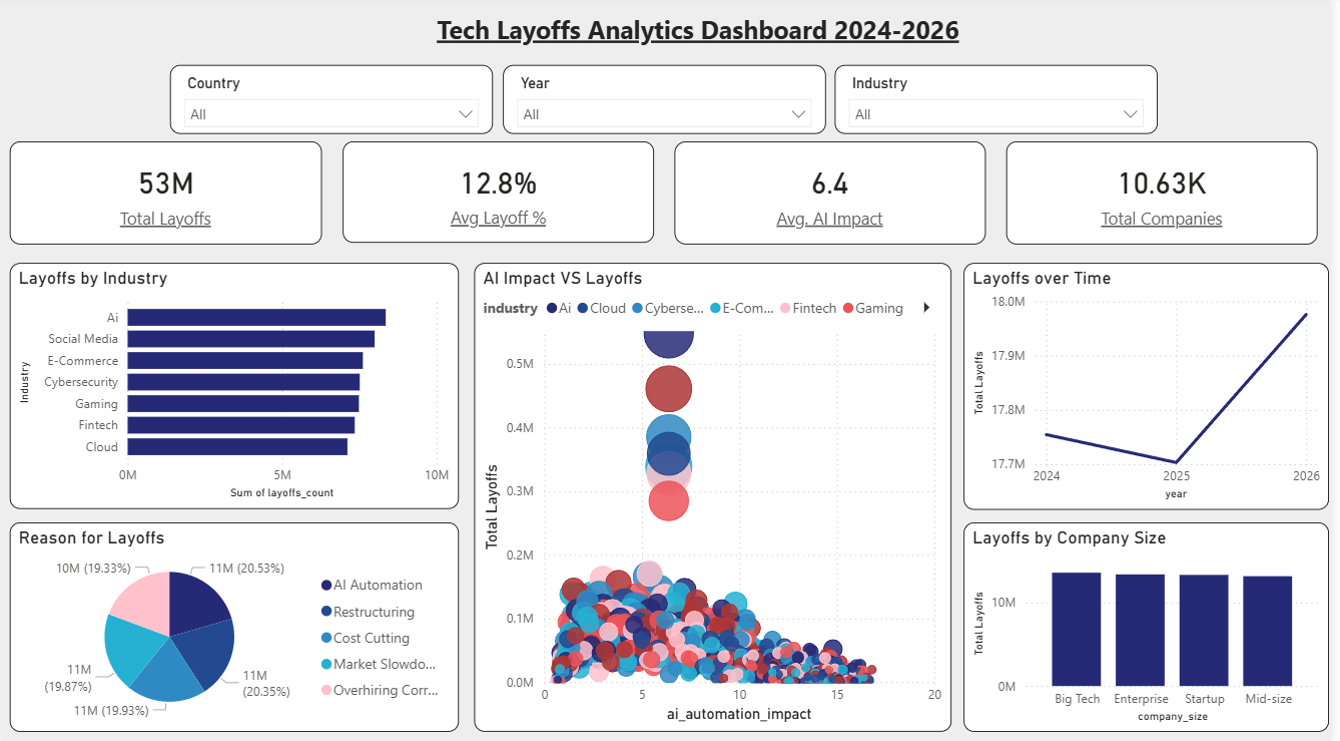

What the dashboard file says about the page in this screenshot:
{"tool":"powerbi","page":{"name":"Page 1","canvas":[1280,720],"ordinal":0},"visuals":[{"type":"card","title":"Total Layoffs","fields":{"Values":["Sum(tech_layoffs_cleaned.layoffs_count)"]},"box":[8.4,139.9,300.4,98.9],"z":0},{"type":"card","fields":{"Values":["Avg(tech_layoffs_cleaned.ai_automation_impact)"]},"box":[648.8,139.8,300,98.9],"z":1000},{"type":"clusteredBarChart","title":"Layoffs by Industry","fields":{"Category":["tech_layoffs_cleaned.industry"],"Y":["Sum(tech_layoffs_cleaned.layoffs_count)"]},"box":[8.9,257.4,432.5,236.7],"z":2000},{"type":"lineChart","title":"Layoffs over Time","fields":{"Category":["tech_layoffs_cleaned.year"],"Y":["Sum(tech_layoffs_cleaned.layoffs_count)"]},"box":[927.7,257,352.3,237.7],"z":3000},{"type":"pieChart","title":"Reason for Layoffs","fields":{"Category":["tech_layoffs_cleaned.reason_for_layoffs"],"Y":["Sum(tech_layoffs_cleaned.layoffs_count)"]},"box":[8.4,506.7,433.1,201.5],"z":4000},{"type":"scatterChart","title":"AI Impact VS Layoffs","fields":{"Series":["tech_layoffs_cleaned.industry"],"Size":["Sum(tech_layoffs_cleaned.job_security_score)"],"X":["tech_layoffs_cleaned.ai_automation_impact"],"Y":["Sum(tech_layoffs_cleaned.layoffs_count)"]},"box":[456,257,459.7,451.2],"z":5000},{"type":"slicer","fields":{"Values":["tech_layoffs_cleaned.country"]},"box":[163.2,66.4,311.3,66.4],"z":6000},{"type":"slicer","fields":{"Values":["tech_layoffs_cleaned.year"]},"box":[483.2,66.4,311.3,66.4],"z":7000},{"type":"slicer","fields":{"Values":["tech_layoffs_cleaned.industry"]},"box":[803.2,66.4,311.3,66.4],"z":8000},{"type":"card","fields":{"Values":["CountNonNull(tech_layoffs_cleaned.company_name)"]},"box":[968.8,139.8,300,98.9],"z":9000},{"type":"clusteredColumnChart","title":"Layoffs by Company Size","fields":{"Category":["tech_layoffs_cleaned.company_size"],"Y":["Sum(tech_layoffs_cleaned.layoffs_count)"]},"box":[927.8,506.7,352.3,201.5],"z":10000},{"type":"textbox","box":[415,10.9,522.4,43.4],"z":11000},{"type":"card","fields":{"Values":["tech_layoffs_cleaned.Avg Layoff %"]},"box":[328.8,140.4,300,97.7],"z":12000}]}

Visuals, with their boxes in screenshot pixels (x1, y1, x2, y2), scaled from the page's 1280x720 canvas onto the 1340x741 screenshot:
"Total Layoffs" card: x1=9 y1=144 x2=323 y2=246
card - Avg(tech_layoffs_cleaned.ai_automation_impact): x1=679 y1=144 x2=993 y2=246
"Layoffs by Industry" clusteredBarChart: x1=9 y1=265 x2=462 y2=509
"Layoffs over Time" lineChart: x1=971 y1=264 x2=1339 y2=509
"Reason for Layoffs" pieChart: x1=9 y1=521 x2=462 y2=729
"AI Impact VS Layoffs" scatterChart: x1=477 y1=264 x2=959 y2=729
slicer - tech_layoffs_cleaned.country: x1=171 y1=68 x2=497 y2=137
slicer - tech_layoffs_cleaned.year: x1=506 y1=68 x2=832 y2=137
slicer - tech_layoffs_cleaned.industry: x1=841 y1=68 x2=1167 y2=137
card - CountNonNull(tech_layoffs_cleaned.company_name): x1=1014 y1=144 x2=1328 y2=246
"Layoffs by Company Size" clusteredColumnChart: x1=971 y1=521 x2=1339 y2=729
textbox: x1=434 y1=11 x2=981 y2=56
card - tech_layoffs_cleaned.Avg Layoff %: x1=344 y1=144 x2=658 y2=245
